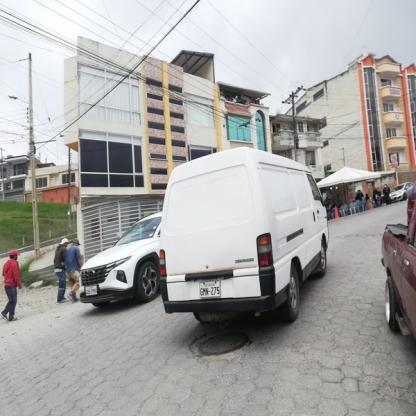Placa: (195, 281, 228, 303)
